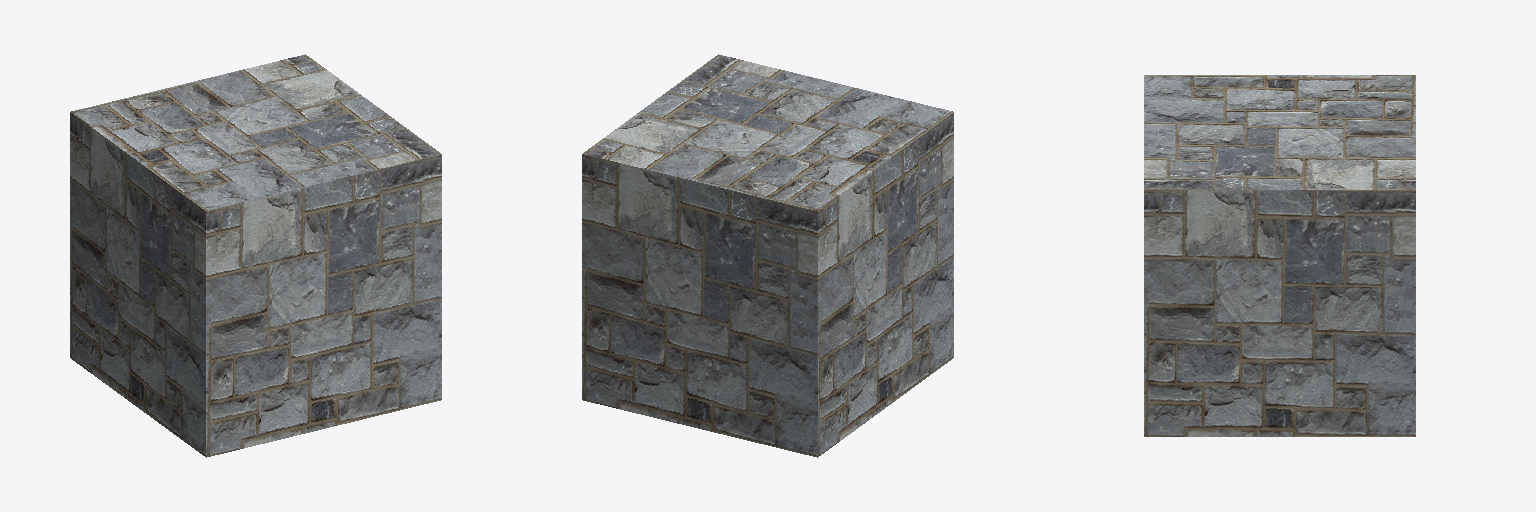
3 views of the same model, side by side, from view 1: azimuth 30°, elevation 25°; view 2: azimuth 150°, elevation 25°; view 3: azimuth 270°, elevation 25° (orthographic).
Visible parts, largest first — view 1: Cube_Cube.002; view 2: Cube_Cube.002; view 3: Cube_Cube.002.
Boxes of the visible parts, box(x1,y1,x2,y2) form: Cube_Cube.002: box(70, 54, 441, 457); Cube_Cube.002: box(582, 54, 953, 457); Cube_Cube.002: box(1144, 75, 1415, 436).
Size of the model in its own units: 2 by 2 by 2.
1 materials, 1 textured.